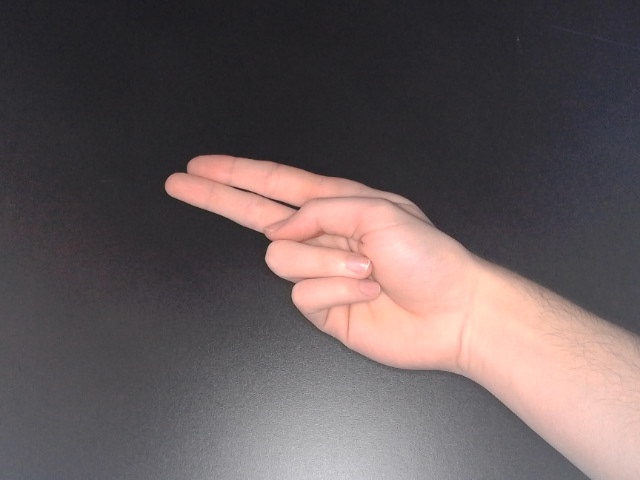h: (160, 150, 489, 394)
